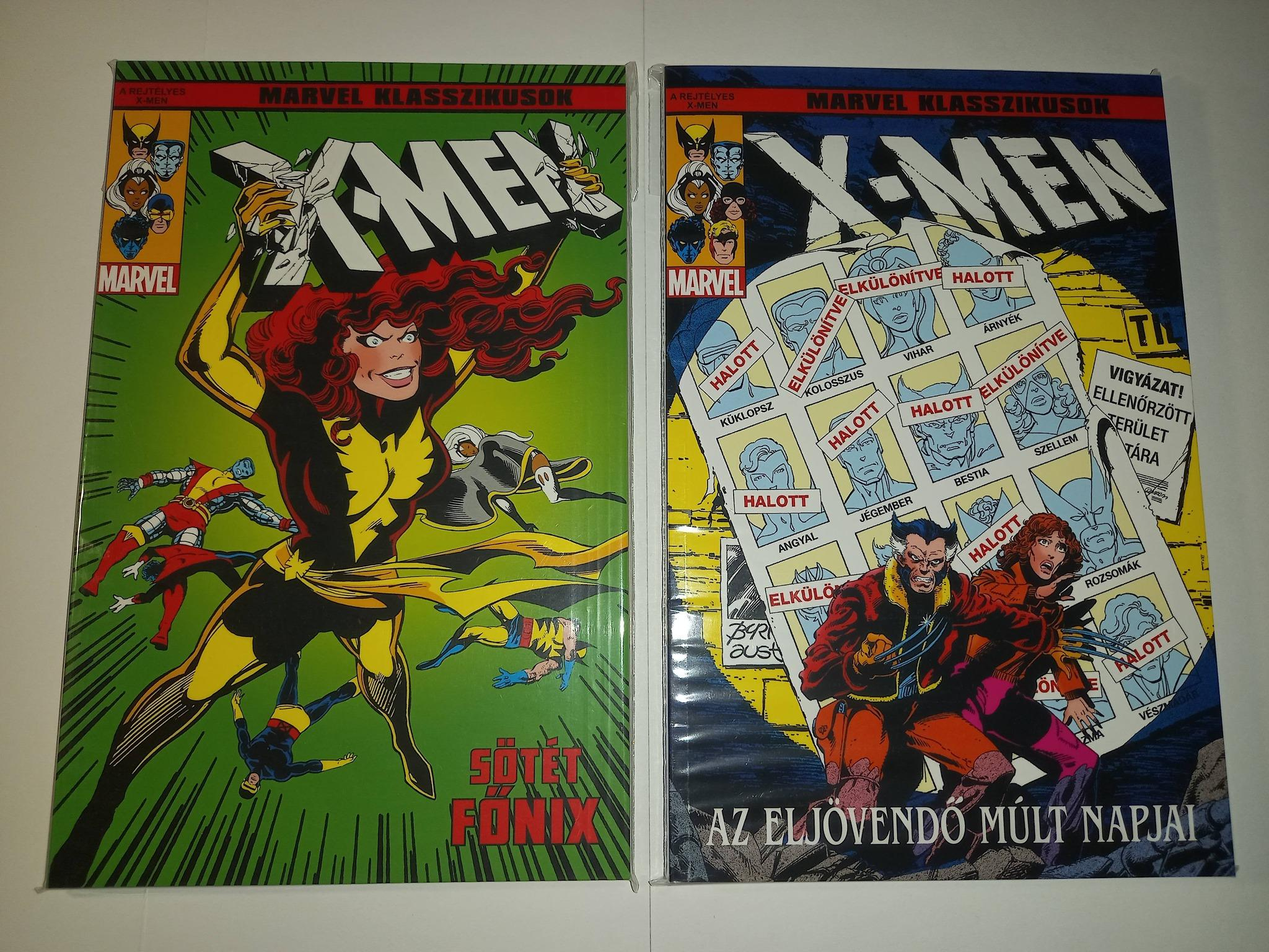comic: (48, 62, 628, 886), (663, 64, 1233, 881)
